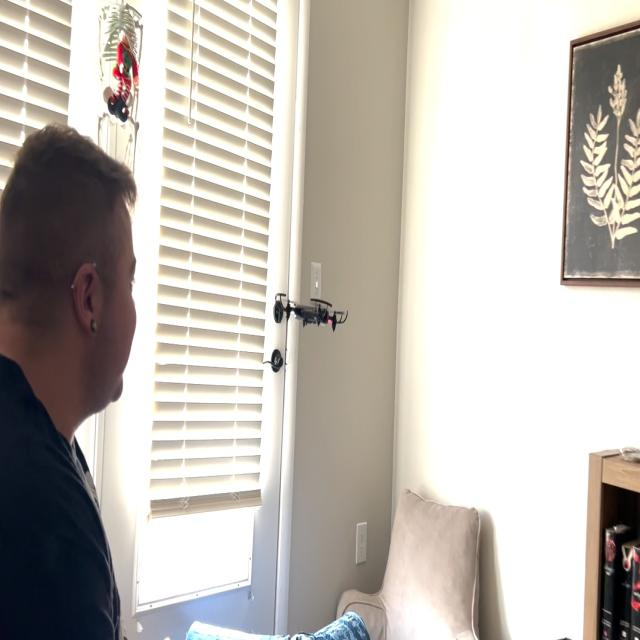drone: (258, 267, 366, 363)
